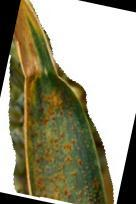Wheat: (22, 83, 80, 192)
